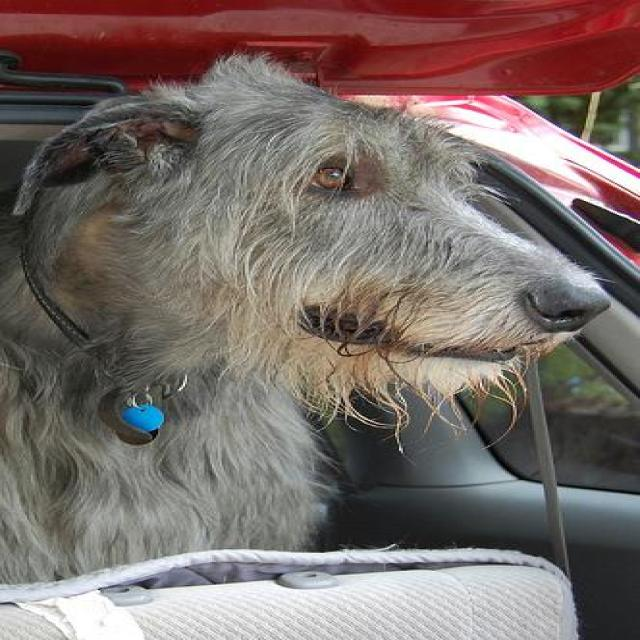irish_wolfhound: (9, 48, 626, 606)
